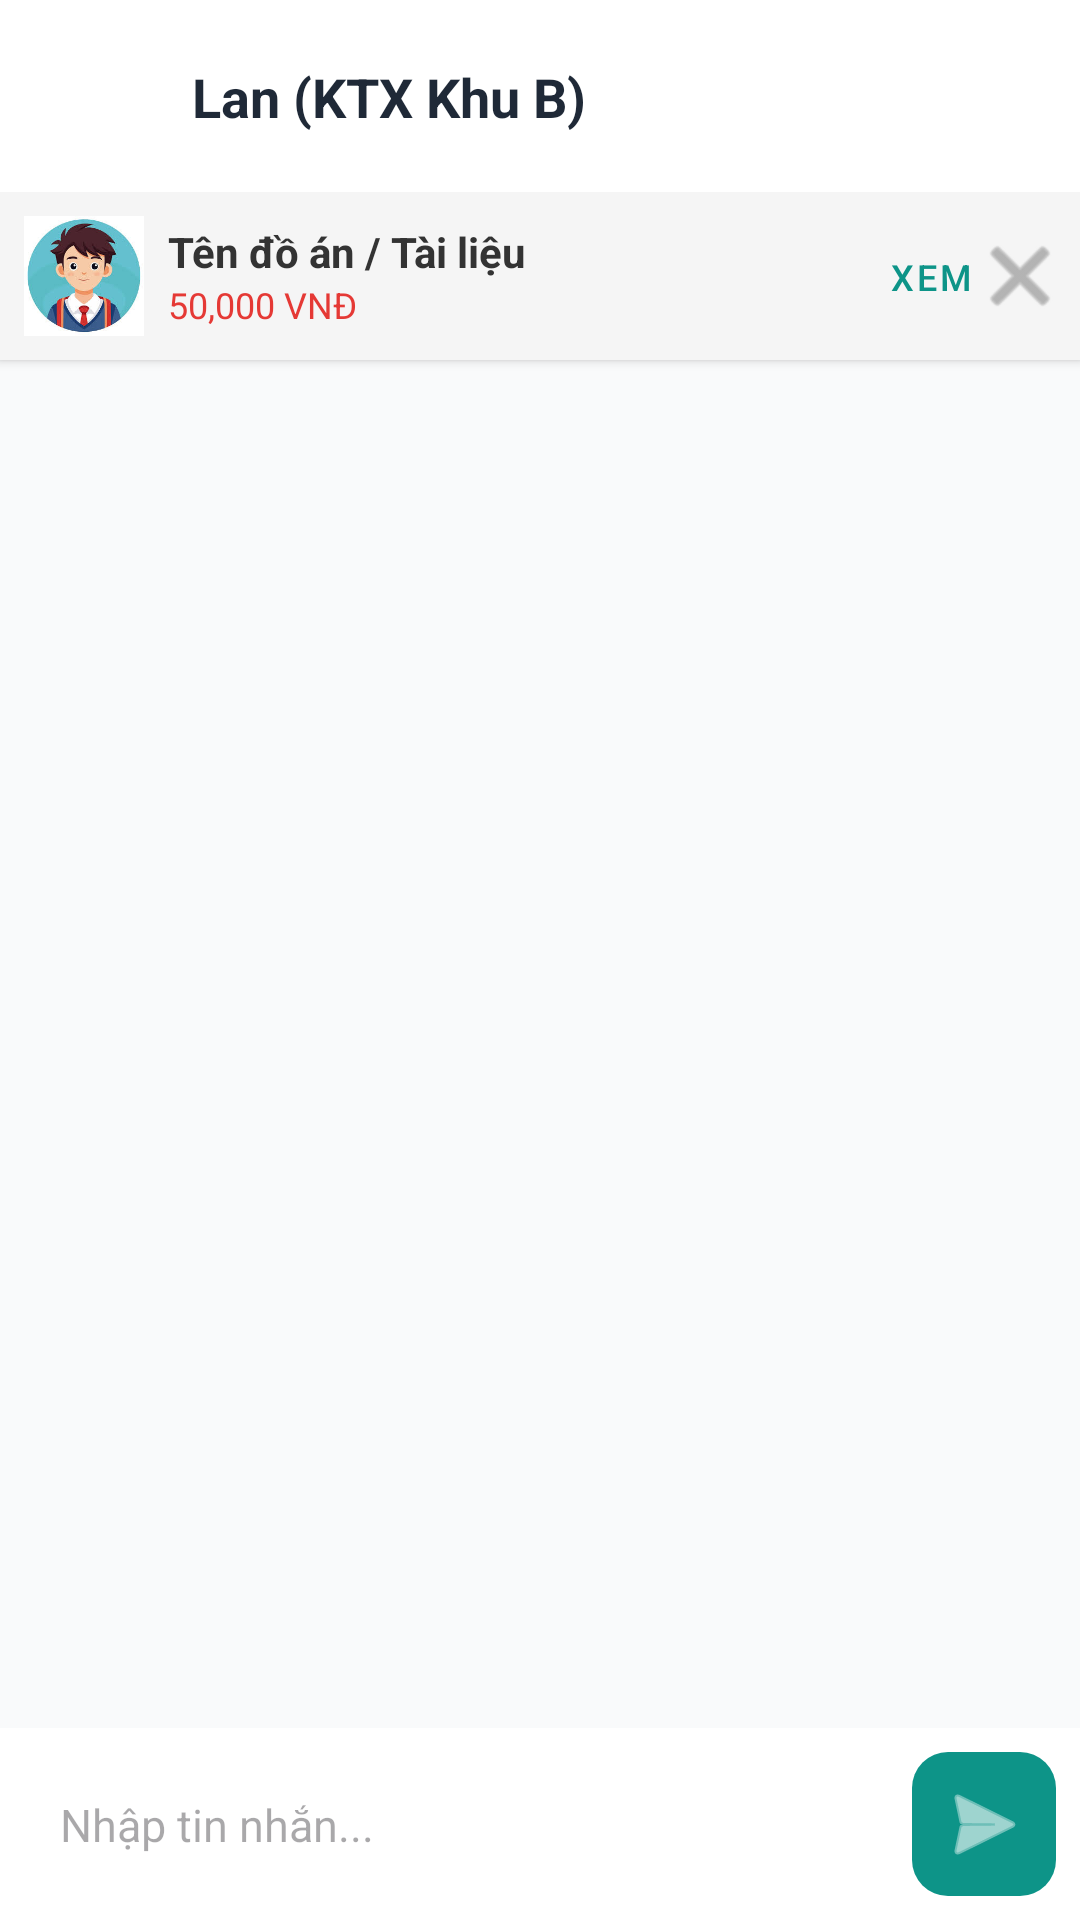

Where to tap for icons on this 1080×1920 app screen, as point (x, y):
close clear cancel: point (1020, 276)
send: point (984, 1824)
